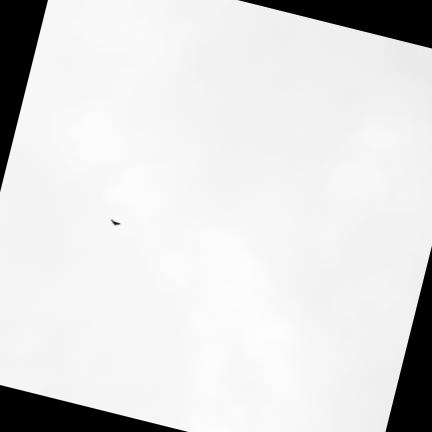Shahed: (111, 219, 119, 224)
